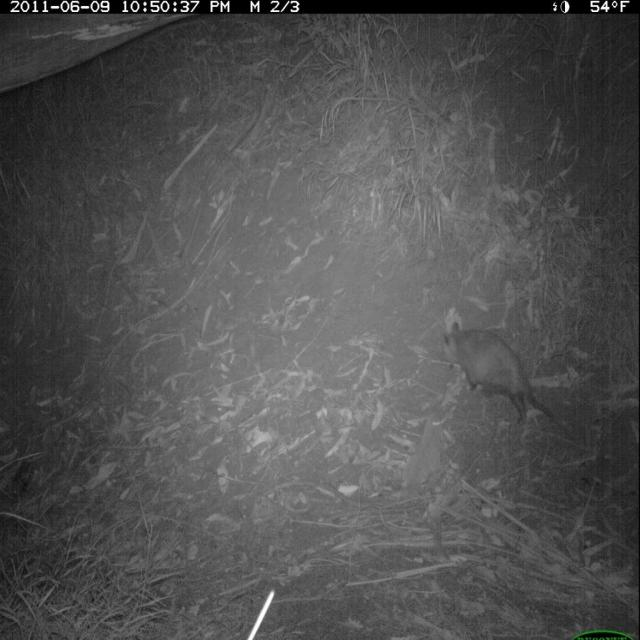opossum: (433, 313, 564, 450)
